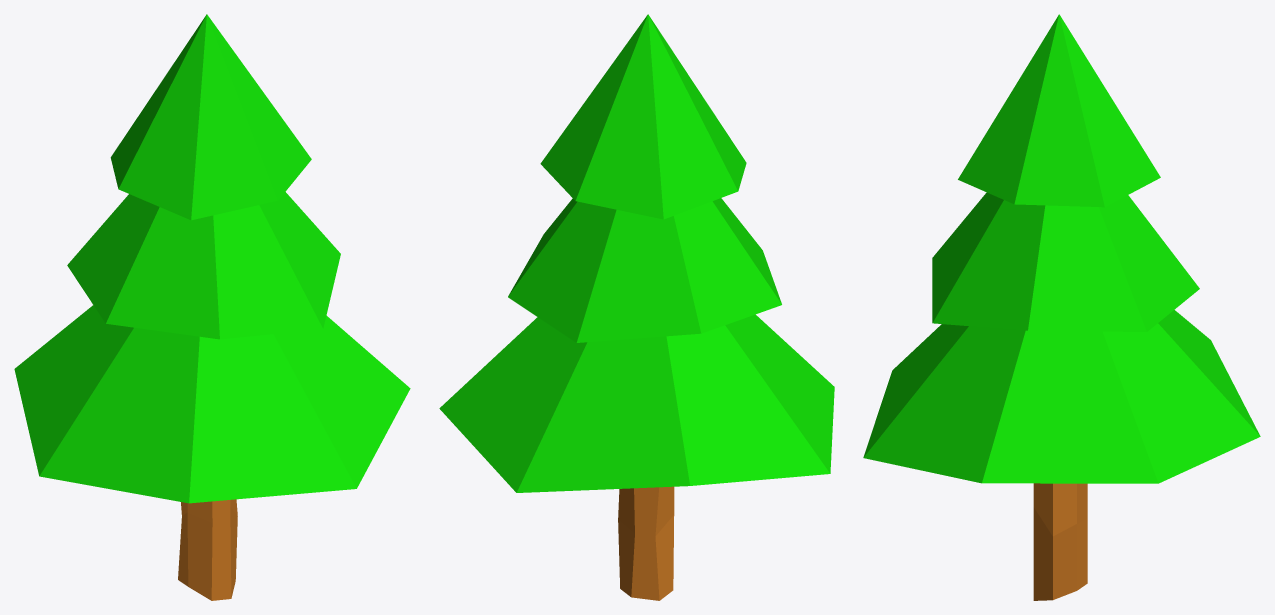
The model's file is tree2.fbx.
3 renders of one model, left to right at view 1: azimuth 30°, elevation 25°; view 2: azimuth 150°, elevation 25°; view 3: azimuth 270°, elevation 25°, orthographic.
Visible parts, largest first — view 1: Cylinder; view 2: Cylinder; view 3: Cylinder.
Boxes of the visible parts, bbox=[...] form: Cylinder: bbox=[14, 14, 410, 600]; Cylinder: bbox=[439, 14, 834, 600]; Cylinder: bbox=[863, 14, 1260, 600].
Bounding box in the file's own units: 444 × 724 × 449.
